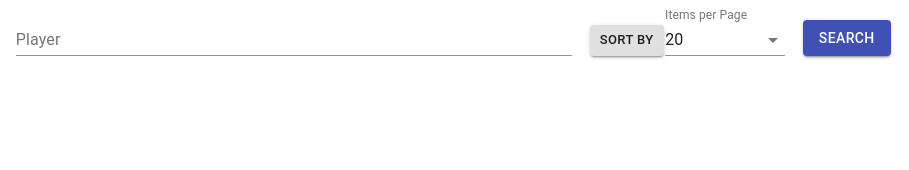
Test case: Clicks the sort by select
Click the button with test id "sortByBtn" at (627, 41), box [590,25,664,56]
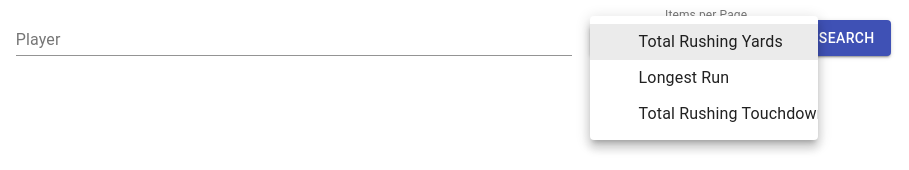
Now the text "Total Rushing Yards" is shown, box [639,30,802,54]
Now the text "Longest Run" is shown, box [639,68,729,87]
Now the text "Total Rushing Touchdowns" is shown, box [639,102,802,126]
